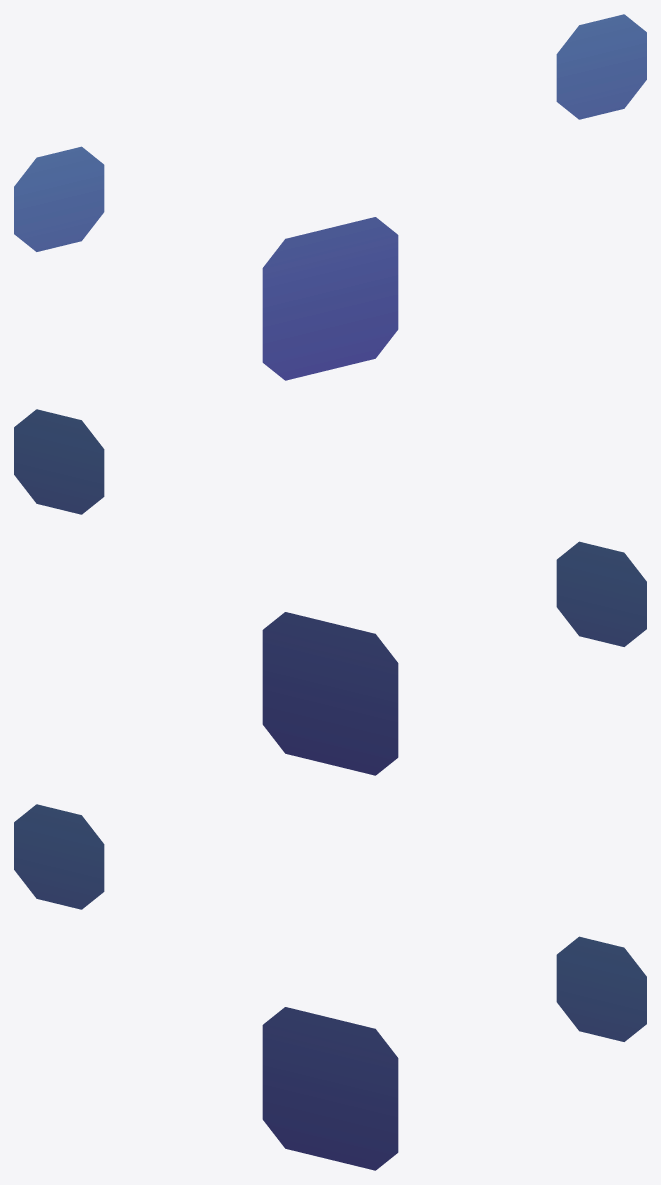
Rendered from coaster-steel-cap-front.glb.
3 renders of one model, top to bottom at view 1: azimuth 30°, elevation 25°; view 2: azimuth 150°, elevation 25°; view 3: azimuth 330°, elevation 25°, orthographic.
Visible parts, largest first — view 1: coaster-steel-cap-front; view 2: coaster-steel-cap-front; view 3: coaster-steel-cap-front.
Part boxes in pixels (x1,y1,x2,y2): coaster-steel-cap-front: [14, 14, 646, 380]; coaster-steel-cap-front: [14, 409, 646, 775]; coaster-steel-cap-front: [14, 804, 646, 1170].
Bounding box in the file's own units: 0.7 × 0.3 × 0.
Materials: 1 (1 with a texture image).
